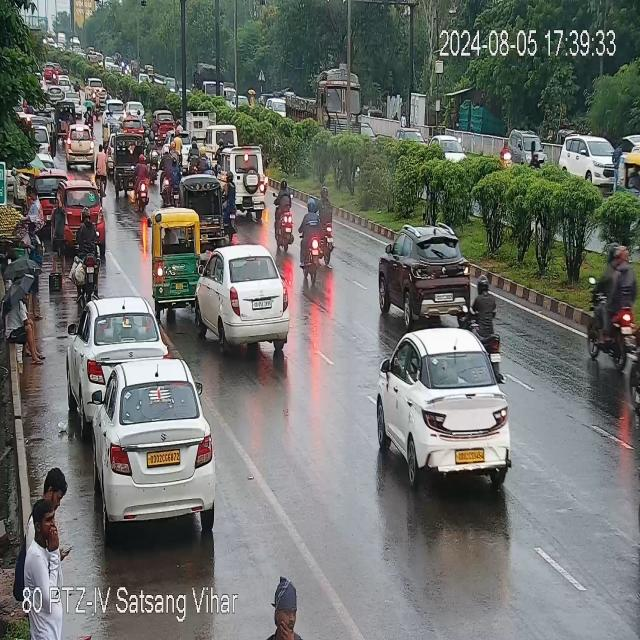2-wheelers: (587, 242, 640, 372), (302, 194, 341, 270), (271, 180, 297, 254), (74, 205, 96, 289), (474, 263, 497, 337), (128, 145, 154, 209), (156, 142, 178, 202), (224, 167, 238, 235), (188, 141, 202, 177), (84, 97, 98, 128), (92, 86, 100, 120), (215, 140, 223, 156), (174, 116, 182, 130)
auto: (150, 206, 208, 302), (173, 180, 237, 244), (54, 99, 79, 141), (621, 151, 640, 203)
car: (73, 358, 219, 531), (378, 332, 510, 487), (68, 297, 177, 419), (376, 233, 480, 322), (194, 247, 286, 346), (558, 132, 622, 188), (66, 180, 104, 252), (238, 140, 270, 223), (64, 126, 100, 168), (508, 128, 542, 172), (32, 164, 71, 197), (120, 116, 150, 138), (84, 78, 110, 101), (205, 123, 220, 162), (101, 98, 122, 125), (154, 110, 173, 132)
pedestrian: (32, 468, 77, 586), (7, 225, 51, 318), (4, 270, 46, 364), (267, 573, 301, 637), (25, 189, 50, 259), (36, 464, 68, 508), (54, 190, 66, 270)
truck: (311, 74, 361, 135), (186, 112, 219, 136)
